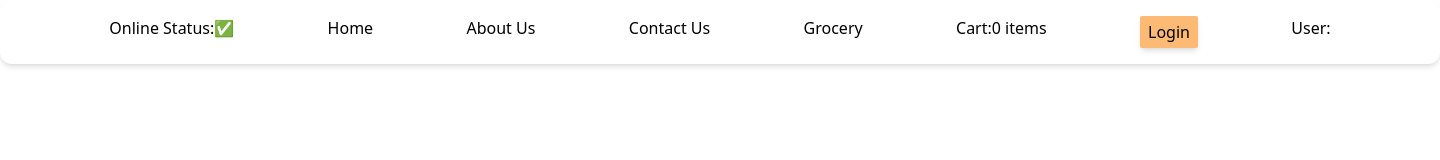
Test: should render login button and change to logout on click
Click the button "Login" at x=1169, y=32, box [1140,16,1198,48]
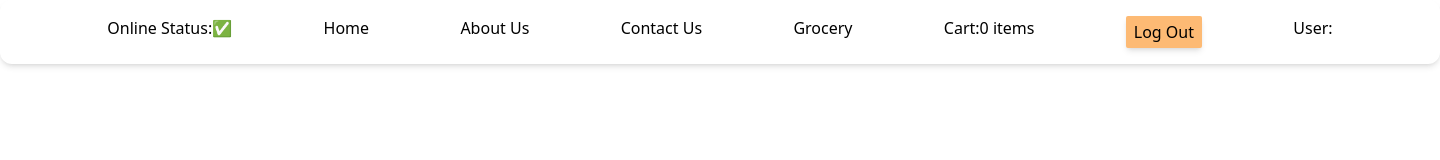
Result: the button "Log Out" is shown at [1126,16,1202,48]
